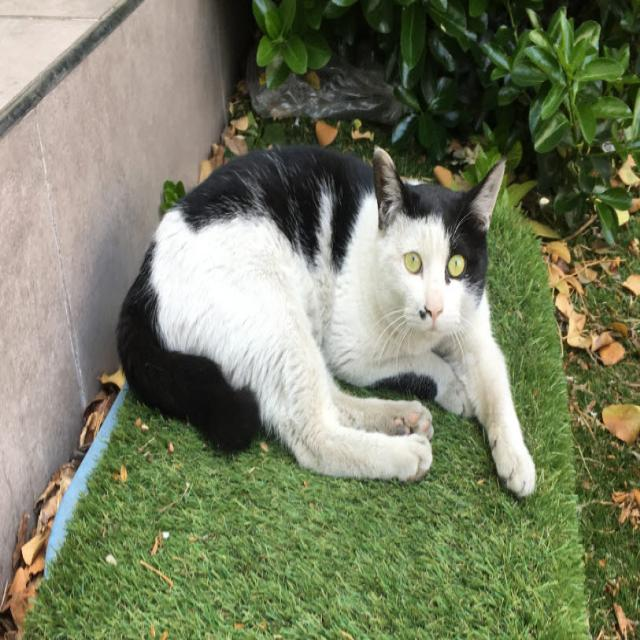cat: (113, 140, 550, 500)
